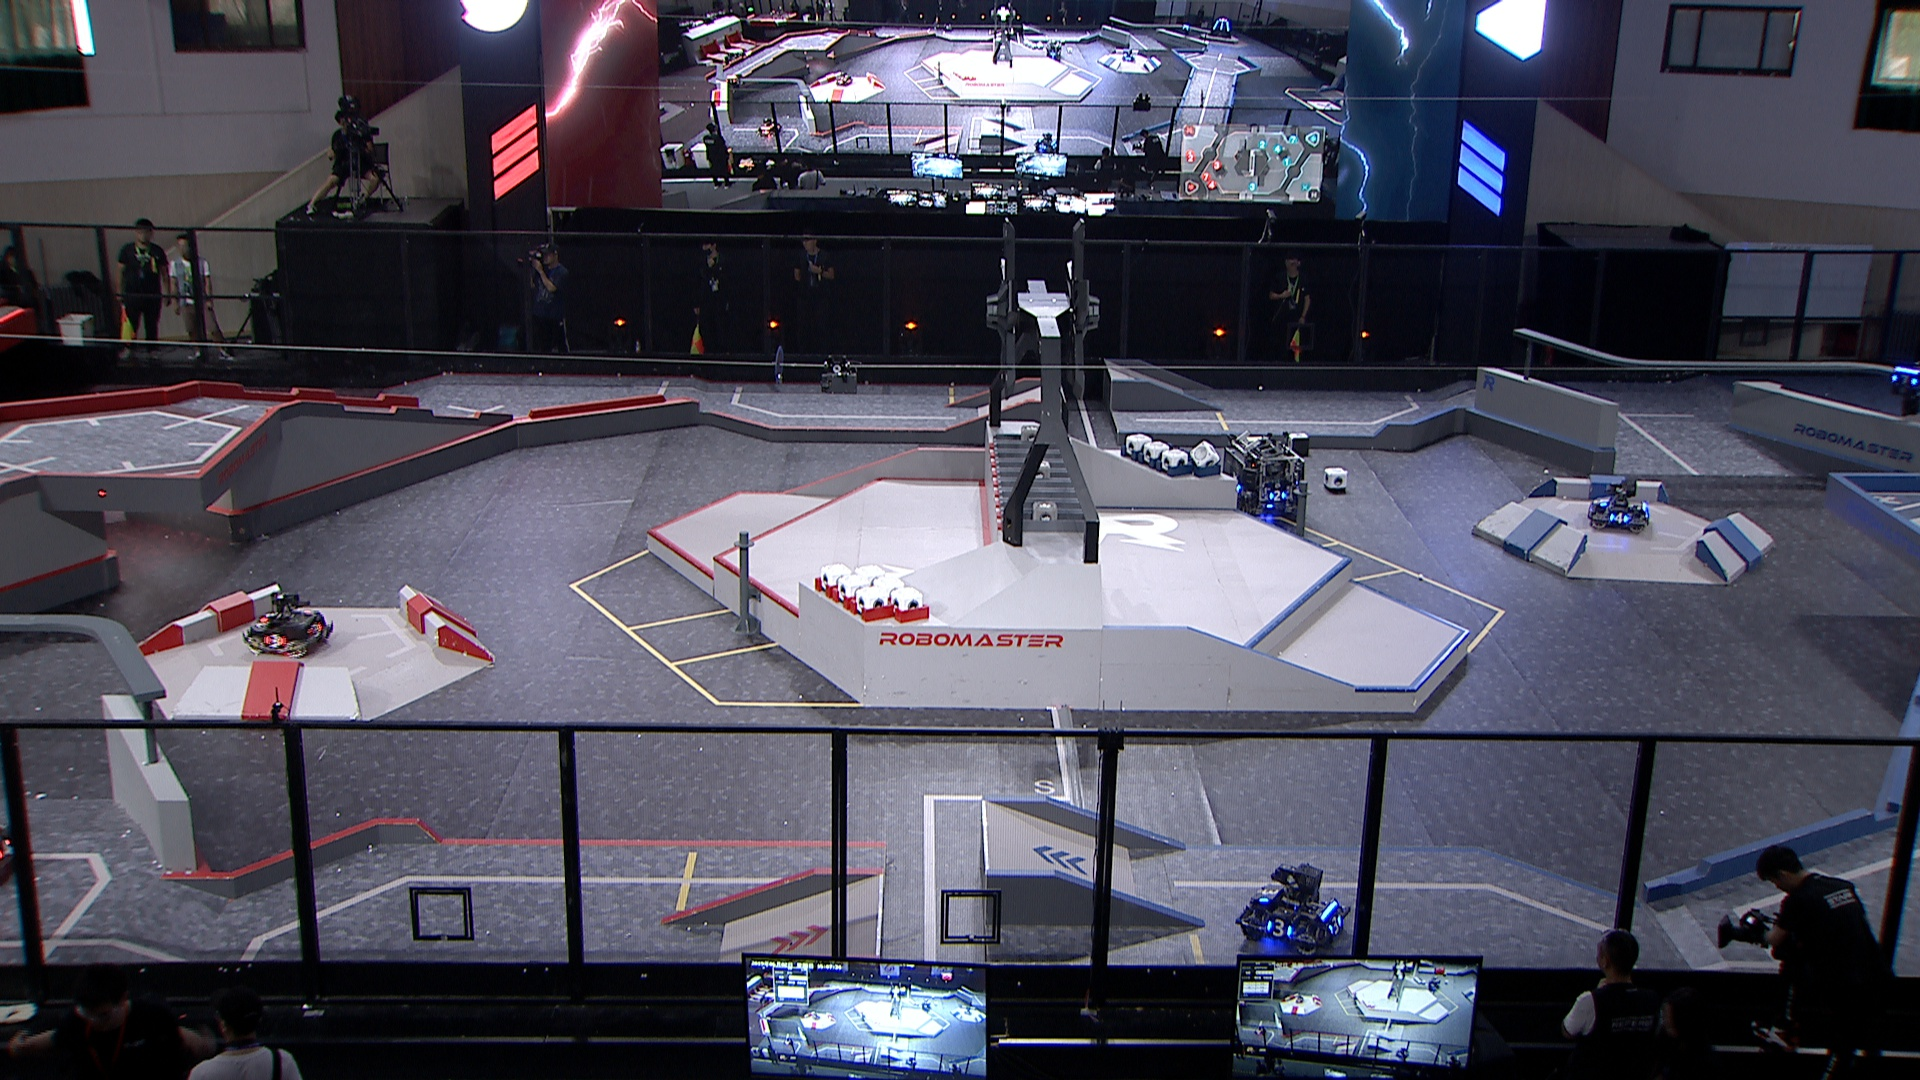armor: (1266, 916, 1294, 942), (262, 632, 287, 650), (1888, 372, 1920, 386), (1258, 884, 1280, 903), (1327, 915, 1342, 938), (1607, 510, 1631, 524), (309, 621, 324, 641), (261, 608, 280, 624), (1269, 488, 1287, 502)
car: (1233, 860, 1354, 960), (1218, 431, 1305, 520), (239, 589, 334, 659), (1586, 473, 1652, 534)
ignore: (1207, 17, 1234, 40), (1033, 131, 1059, 153), (757, 115, 781, 138), (1044, 40, 1064, 62), (724, 71, 744, 87), (835, 73, 855, 86), (1120, 47, 1135, 63)
watcher: (1884, 356, 1920, 417)
